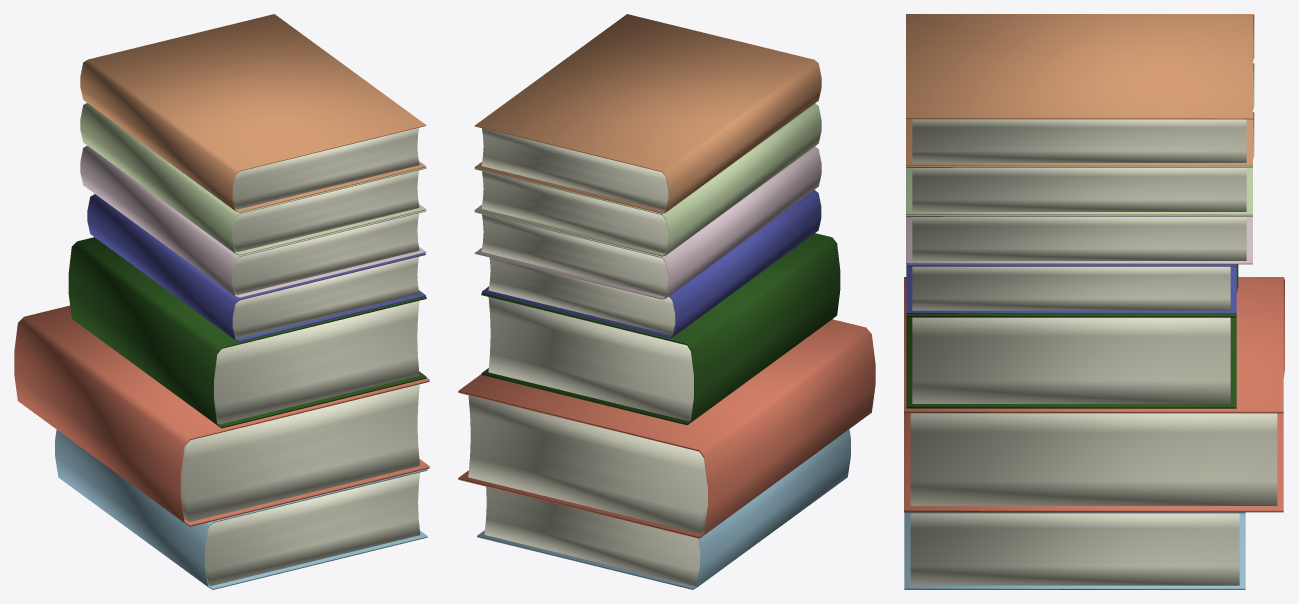
3 renders of one model, left to right at view 1: azimuth 30°, elevation 25°; view 2: azimuth 150°, elevation 25°; view 3: azimuth 270°, elevation 25°, orthographic. The views are drawn at different scales.
Parts seen in each view (by area): view 1: Node; view 2: Node; view 3: Node.
Boxes of the visible parts, left/top/right/bottom form: Node: left=14, top=14, right=429, bottom=589; Node: left=458, top=14, right=875, bottom=589; Node: left=904, top=14, right=1284, bottom=589.
Bounding box in the file's own units: 0.19 × 0.3005 × 0.22.
